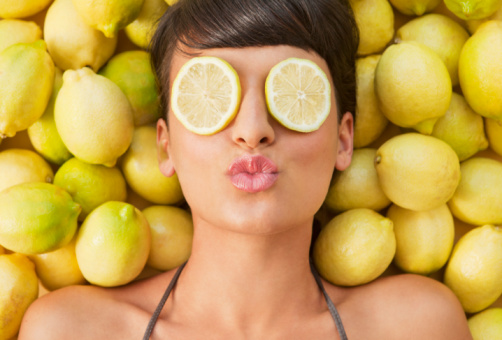deitado: (121, 0, 390, 340)
